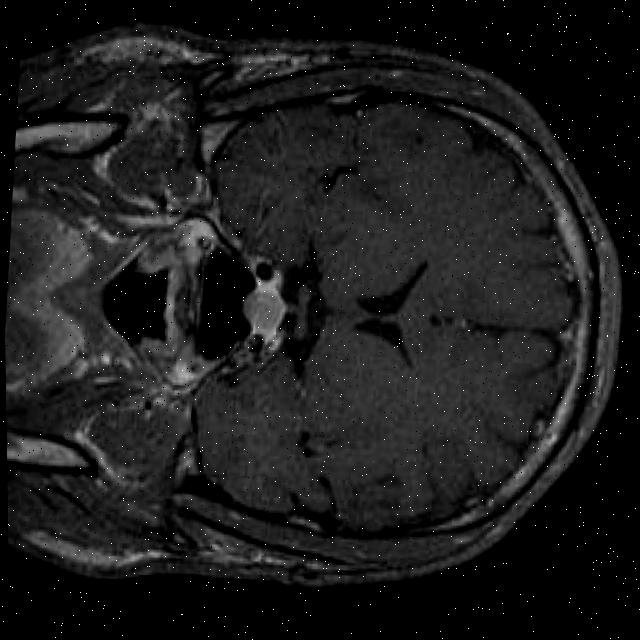Pituitary: (237, 280, 288, 339)
